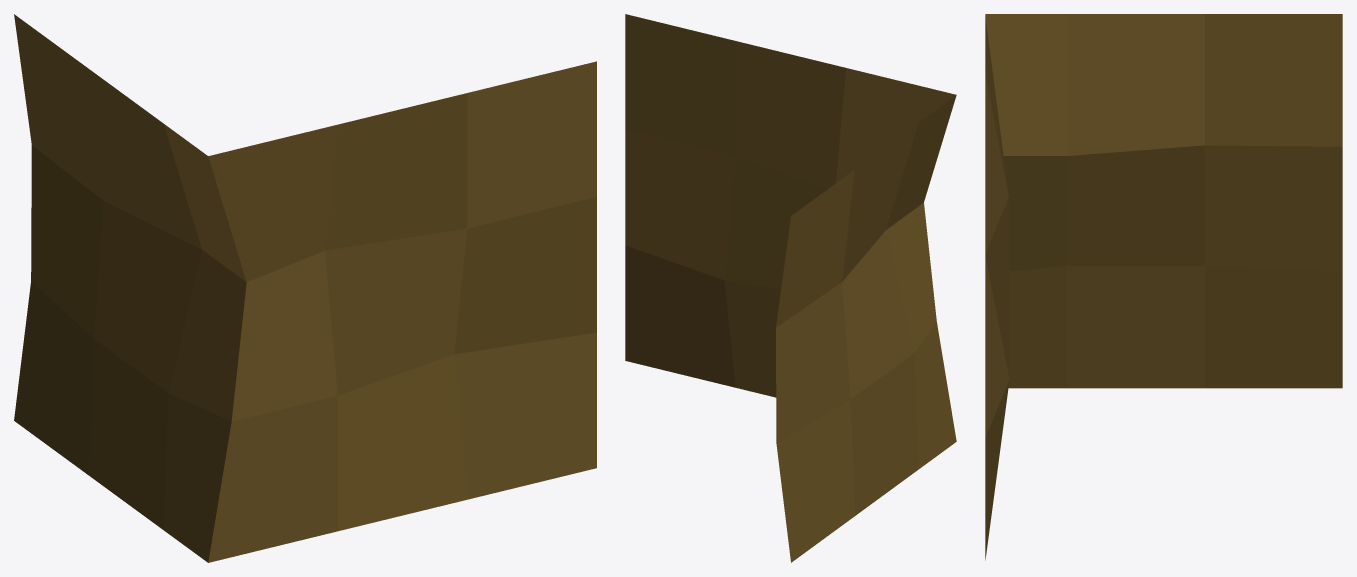
File: Platformer_L.fbx
The picture shows the model from 3 angles, left to right: view 1: azimuth 30°, elevation 25°; view 2: azimuth 150°, elevation 25°; view 3: azimuth 270°, elevation 25°; orthographic projection. The views are drawn at different scales.
Parts seen in each view (by area): view 1: Platformer_L; view 2: Platformer_L; view 3: Platformer_L.
Part boxes in pixels (bbox=[...]): Platformer_L: bbox=[14, 14, 596, 562]; Platformer_L: bbox=[625, 14, 956, 562]; Platformer_L: bbox=[985, 14, 1342, 560].
Size of the model in its own units: 200 by 200 by 173.
